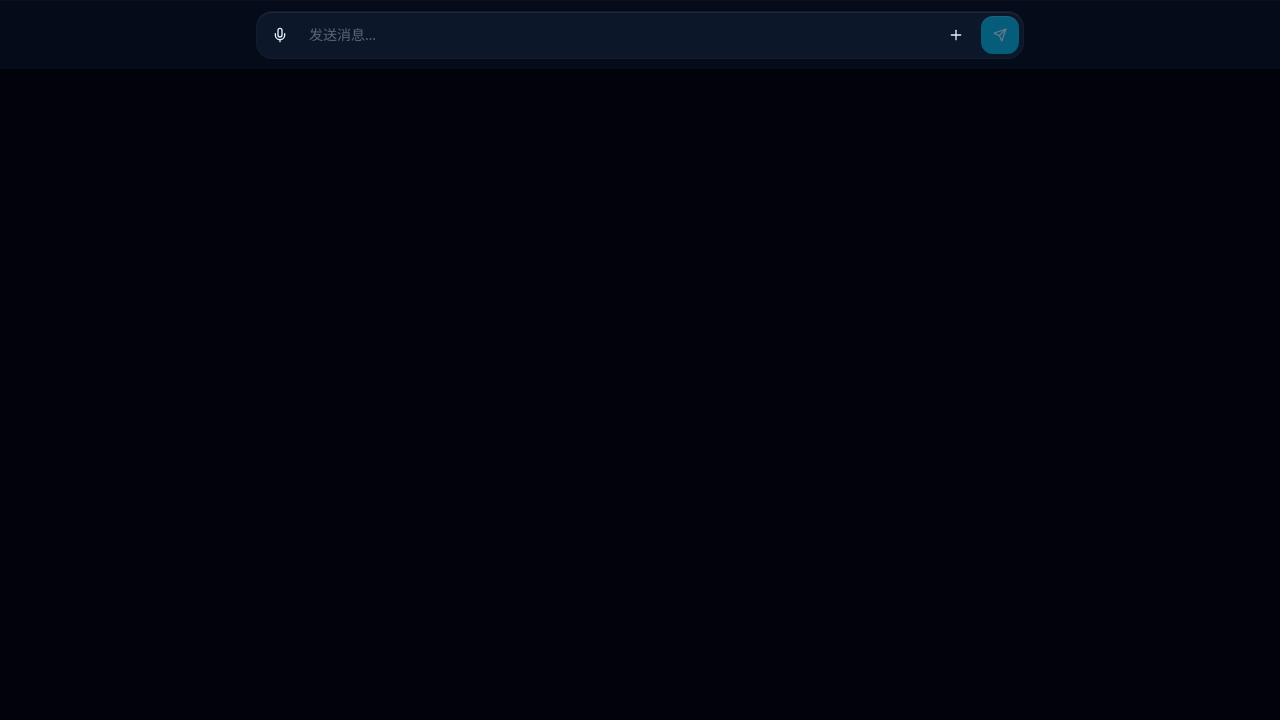
ChatInputArea 微信语音交互与快捷栏持久化 › 发送被拒时保留录音与草稿，不清空输入区
Click the button named "切换为语音输入" at (280, 35), box left=261, top=16, right=299, bottom=54
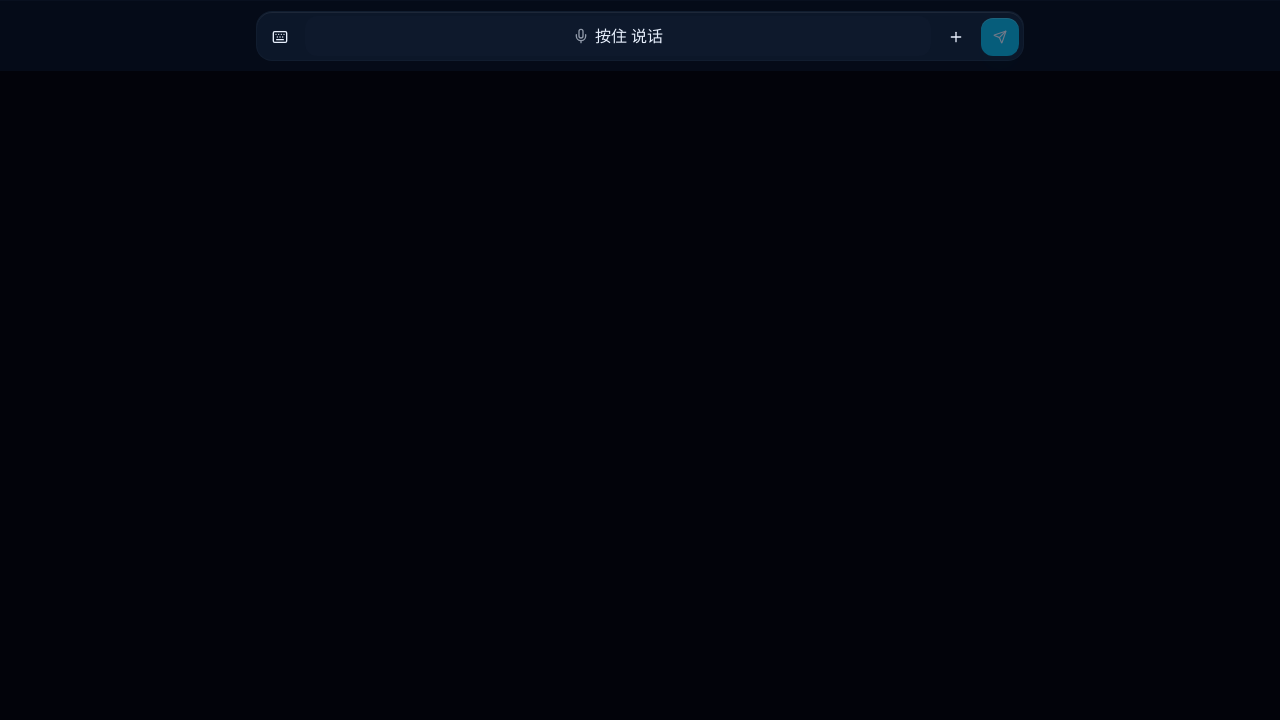
Press the mouse on the button "按住 说话" at (618, 36), box left=305, top=16, right=931, bottom=56
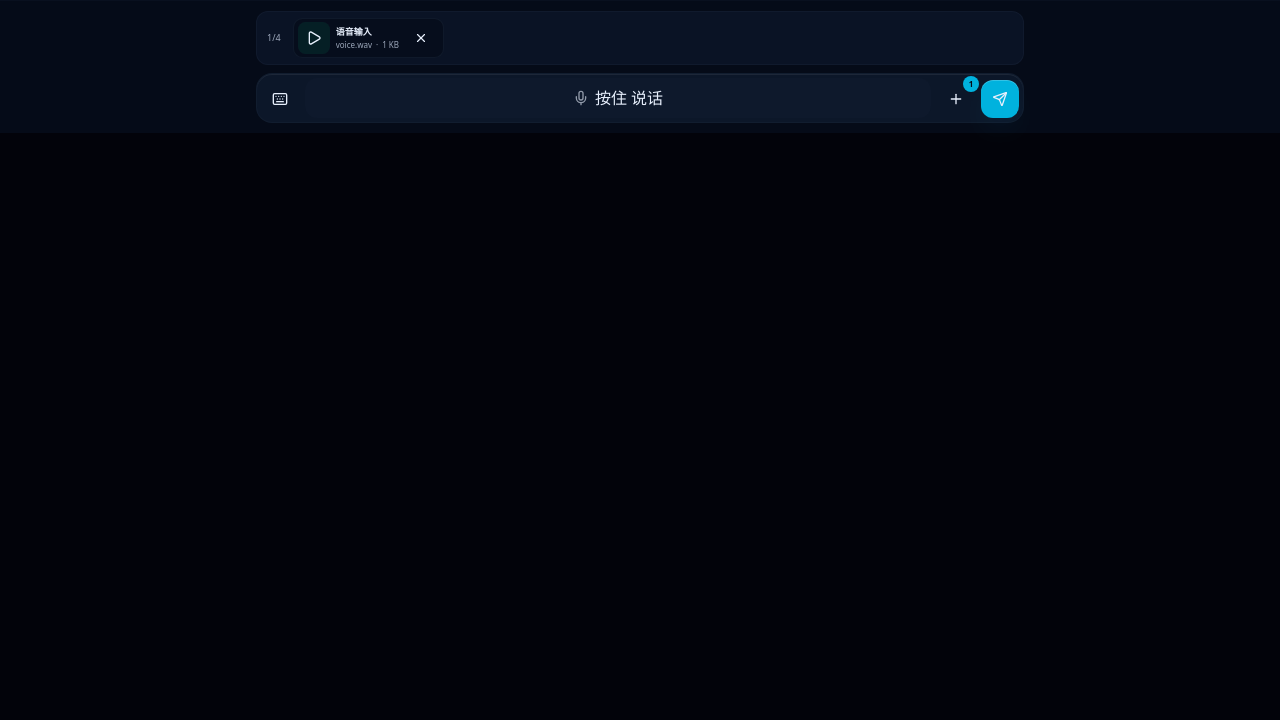
expect the text "voice.wav" is shown: met, box left=336, top=39, right=372, bottom=51
